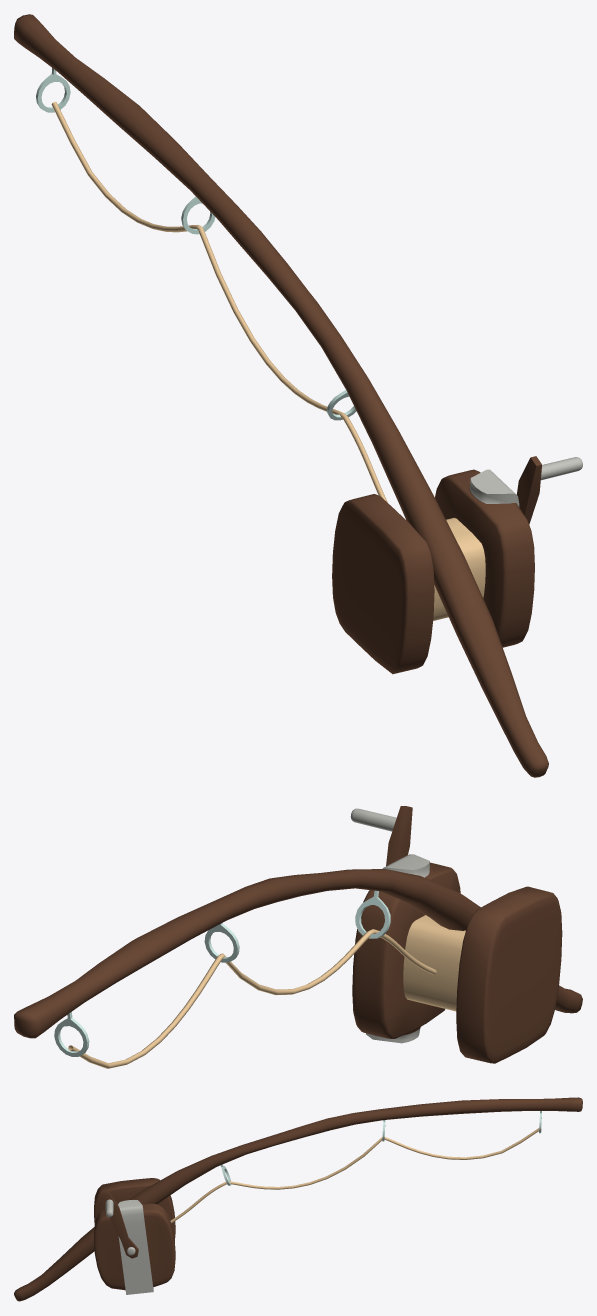
File: Fishing_Rod_finish1.fbx
3 renders of one model, top to bottom at view 1: azimuth 30°, elevation 25°; view 2: azimuth 150°, elevation 25°; view 3: azimuth 270°, elevation 25°, orthographic. The views are drawn at different scales.
Parts seen in each view (by area): view 1: Cube, Cube.001, BezierCurve, Cube.002; view 2: Cube.001, Cube, BezierCurve, Cube.002, Cube.004, Plane.002, Plane.003, Plane.001; view 3: Cube, Cube.001, BezierCurve, Cube.002.
Boxes of the visible parts, x1,y1,x2,y2 form: Cube: [14, 14, 548, 777]; Cube.001: [332, 469, 534, 674]; BezierCurve: [51, 101, 387, 502]; Cube.002: [516, 456, 541, 524]; Cube.001: [352, 854, 562, 1063]; Cube: [14, 869, 582, 1038]; BezierCurve: [68, 929, 436, 1068]; Cube.002: [386, 806, 412, 866]; Cube.004: [350, 808, 396, 831]; Plane.002: [355, 890, 390, 938]; Plane.003: [54, 1012, 89, 1056]; Plane.001: [204, 923, 239, 962]; Cube: [14, 1097, 582, 1301]; Cube.001: [94, 1178, 175, 1294]; BezierCurve: [170, 1128, 539, 1223]; Cube.002: [102, 1191, 138, 1258].
Bounding box in the file's own units: 21.27 × 40.49 × 102.
